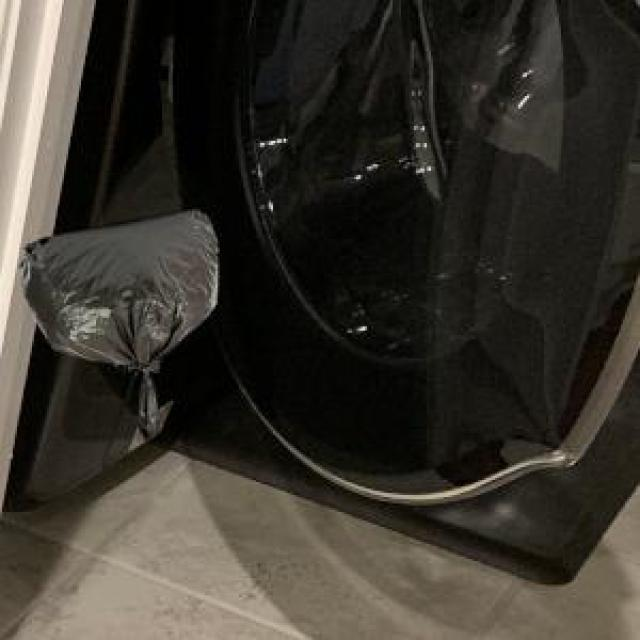waste: (25, 210, 219, 372)
